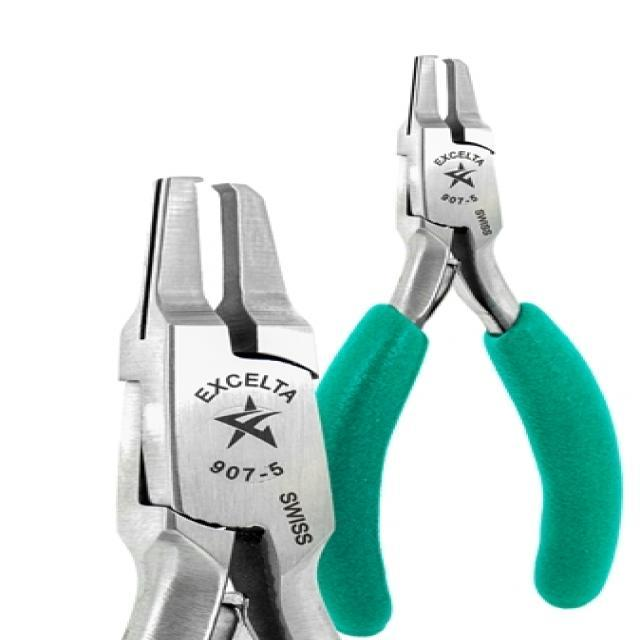pliers: (296, 48, 626, 638), (106, 166, 344, 640)
